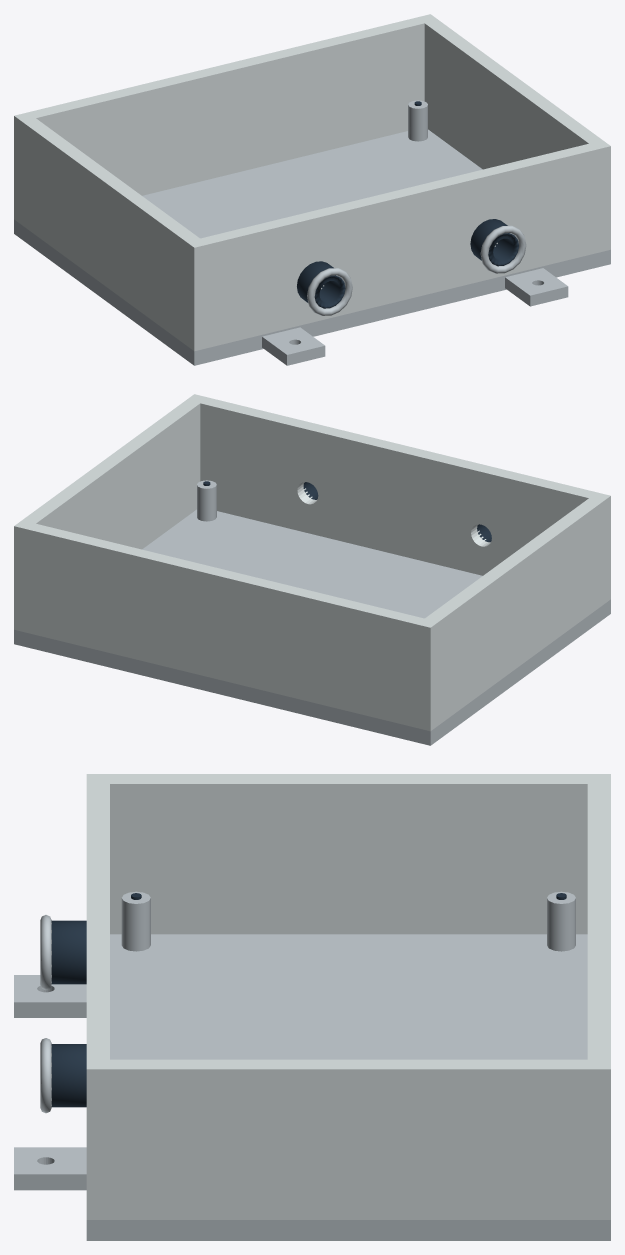
File: shell.glb
3 views of the same model, one above another, from view 1: azimuth 30°, elevation 25°; view 2: azimuth 150°, elevation 25°; view 3: azimuth 270°, elevation 25° (orthographic). The views are drawn at different scales.
Parts seen in each view (by area): view 1: HousingWallZ0.086, HousingWallZ-0.086, HousingBase, HousingWallX-0.116, HousingWallX0.116, MountLug-0.07, MountLug0.07, CableGland-0.05, CableGland0.05, GlandCollar-0.05, GlandCollar0.05, BoardBoss_0.103_-0.073; view 2: HousingWallZ-0.086, HousingWallZ0.086, HousingBase, HousingWallX-0.116, HousingWallX0.116, BoardBoss_0.103_0.073; view 3: HousingWallX0.116, HousingWallX-0.116, HousingBase, HousingWallZ-0.086, HousingWallZ0.086, MountLug0.07, MountLug-0.07, CableGland-0.05, CableGland0.05, BoardBoss_-0.103_0.073, BoardBoss_-0.103_-0.073, GlandCollar-0.05 (+1 smaller).
Part boxes in pixels (bbox=[...]): HousingWallZ0.086: bbox=[186, 140, 610, 351]; HousingWallZ-0.086: bbox=[14, 14, 437, 224]; HousingBase: bbox=[14, 129, 610, 365]; HousingWallX-0.116: bbox=[22, 118, 199, 344]; HousingWallX0.116: bbox=[424, 20, 602, 169]; MountLug-0.07: bbox=[262, 327, 325, 365]; MountLug0.07: bbox=[505, 268, 568, 306]; CableGland-0.05: bbox=[297, 261, 345, 308]; CableGland0.05: bbox=[470, 219, 518, 266]; GlandCollar-0.05: bbox=[307, 268, 352, 315]; GlandCollar0.05: bbox=[480, 225, 526, 273]; BoardBoss_0.103_-0.073: bbox=[408, 100, 427, 141]; HousingWallZ-0.086: bbox=[14, 520, 438, 731]; HousingWallZ0.086: bbox=[187, 394, 610, 604]; HousingBase: bbox=[14, 509, 610, 745]; HousingWallX-0.116: bbox=[425, 498, 602, 724]; HousingWallX0.116: bbox=[22, 400, 200, 549]; BoardBoss_0.103_0.073: bbox=[197, 480, 216, 521]; HousingWallX0.116: bbox=[110, 1059, 587, 1219]; HousingWallX-0.116: bbox=[110, 774, 587, 934]; HousingBase: bbox=[86, 934, 610, 1240]; HousingWallZ-0.086: bbox=[587, 774, 610, 1219]; HousingWallZ0.086: bbox=[86, 774, 109, 1219]; MountLug0.07: bbox=[14, 1147, 86, 1190]; MountLug-0.07: bbox=[14, 975, 86, 1017]; CableGland-0.05: bbox=[51, 920, 86, 984]; CableGland0.05: bbox=[51, 1044, 86, 1107]; BoardBoss_-0.103_0.073: bbox=[121, 891, 150, 951]; BoardBoss_-0.103_-0.073: bbox=[547, 891, 575, 951]; GlandCollar-0.05: bbox=[40, 915, 51, 990].
Size of the model in its own units: 0.24 by 0.065 by 0.205.
